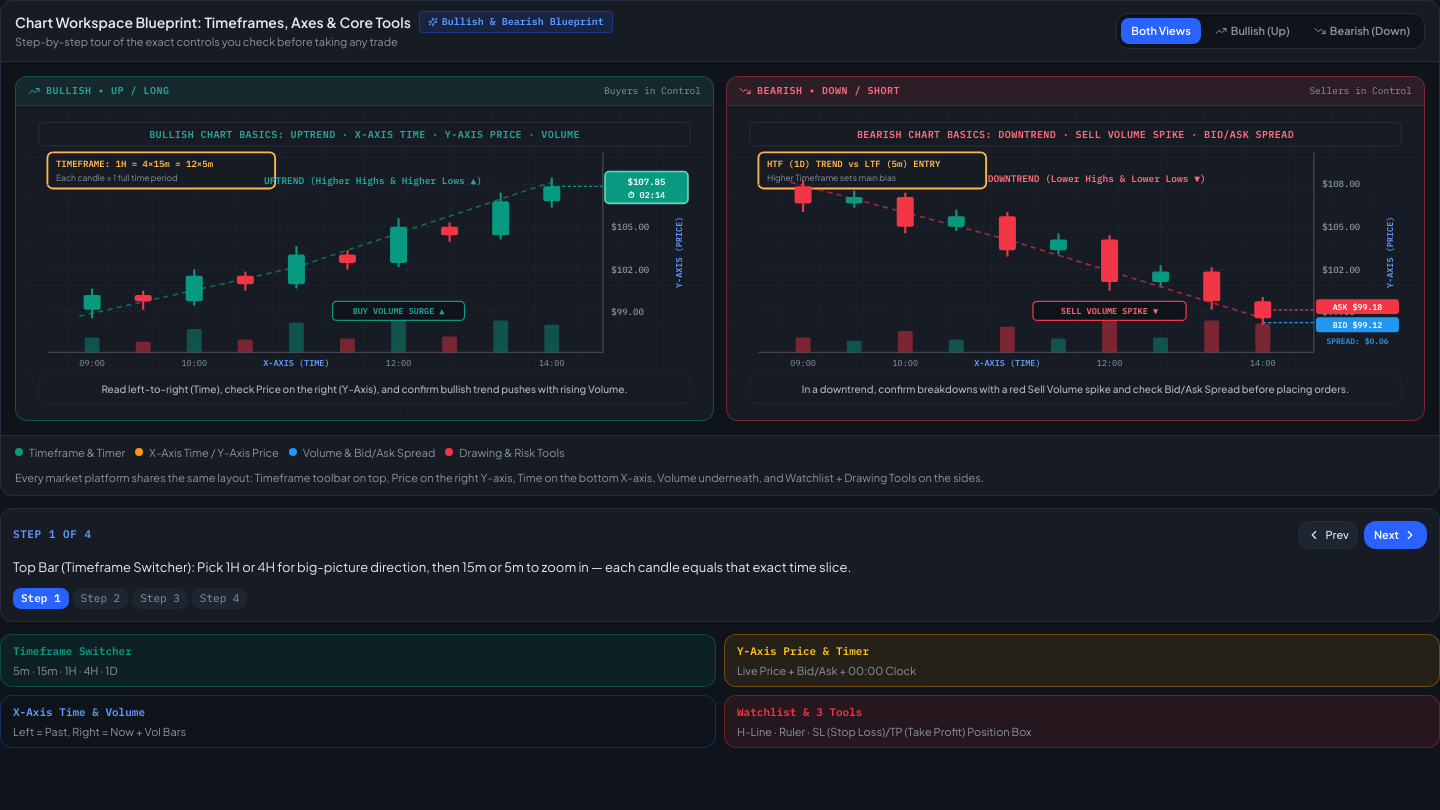
Test case: ConceptDiagramSvg — dual Bullish/Bearish toggle & chart_fundamentals blueprint › renders BOTH Bullish and Bearish SVGs by default, switches to Bullish-only or Bearish-only, and renders chart_fundamentals cleanly
This screenshot has width=1440, height=810.
Expected: the number of pictures named "diagram:" is 2, [24,114,705,412]; [735,114,1416,412]
Expected: the text "BULLISH • UP / LONG" is shown, [28,83,170,99]
Switch to Bullish only
Click the button "Bullish (Up)". click: click(1252, 31)
box: [1205,18,1300,44]
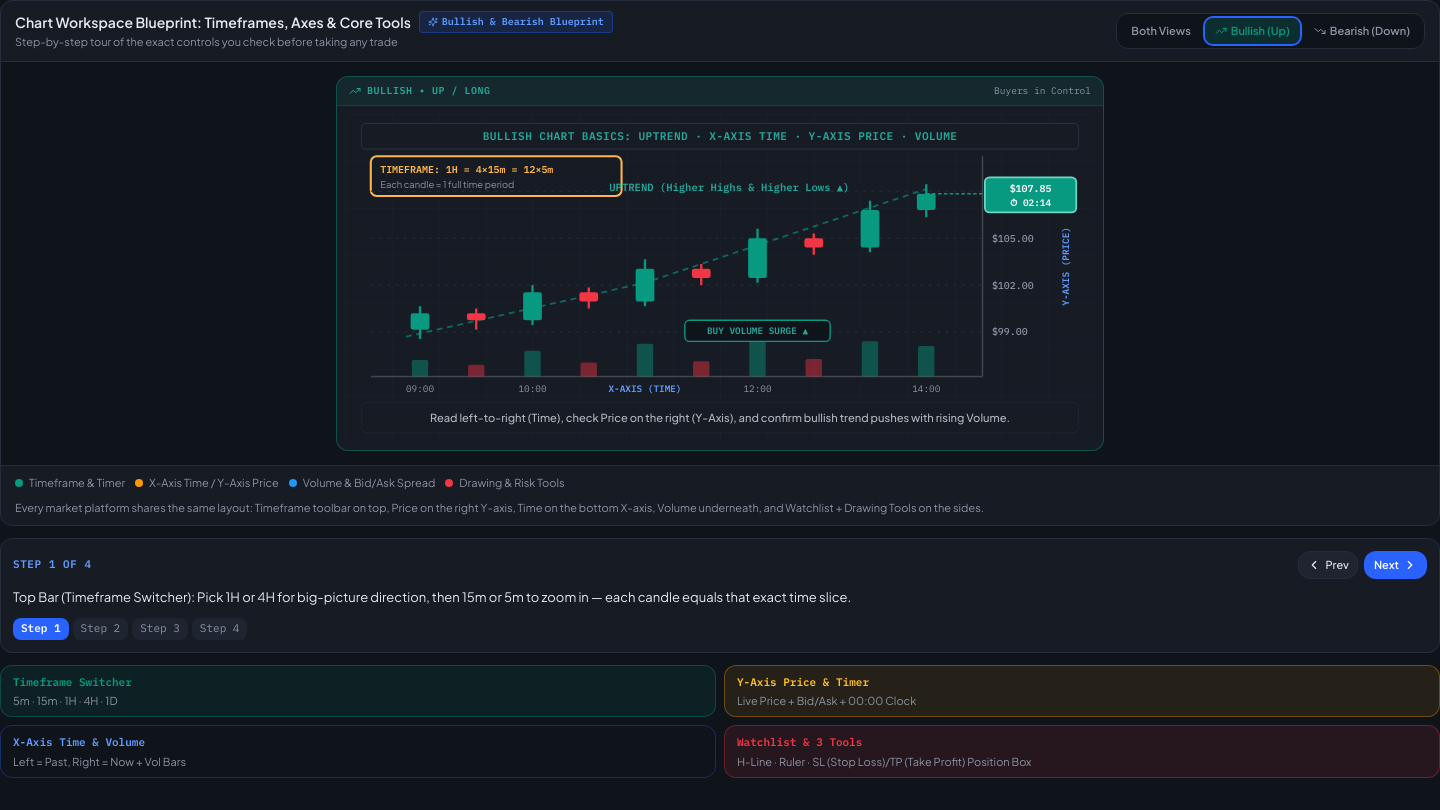
Expected: the text "BULLISH • UP / LONG" is shown, [349,83,490,99]
Expected: the number of pictures named "diagram:" is 1, [345,114,1095,442]
Expected: the text "BEARISH • DOWN / SHORT" is gone
Switch to Bearish only
Click the button "Bearish (Down)". click: click(1362, 31)
box: [1304,18,1420,44]
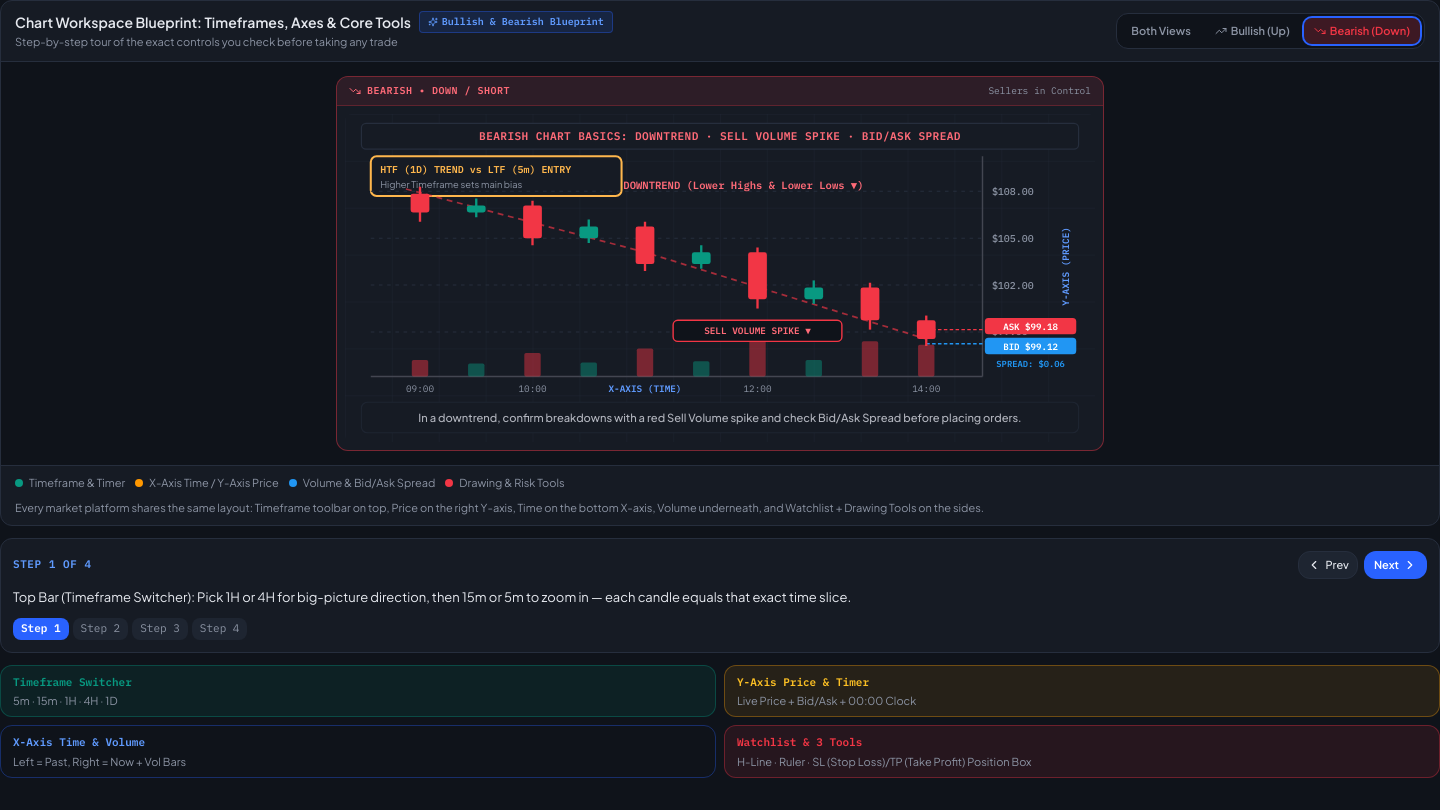
Expected: the number of pictures named "diagram:" is 1, [345,114,1095,442]
Expected: the text "BEARISH • DOWN / SHORT" is shown, [349,83,510,99]
Expected: the text "BULLISH • UP / LONG" is gone
Switch back to Both
Click the button "Both Views". click: click(1161, 31)
box: [1121,18,1201,44]
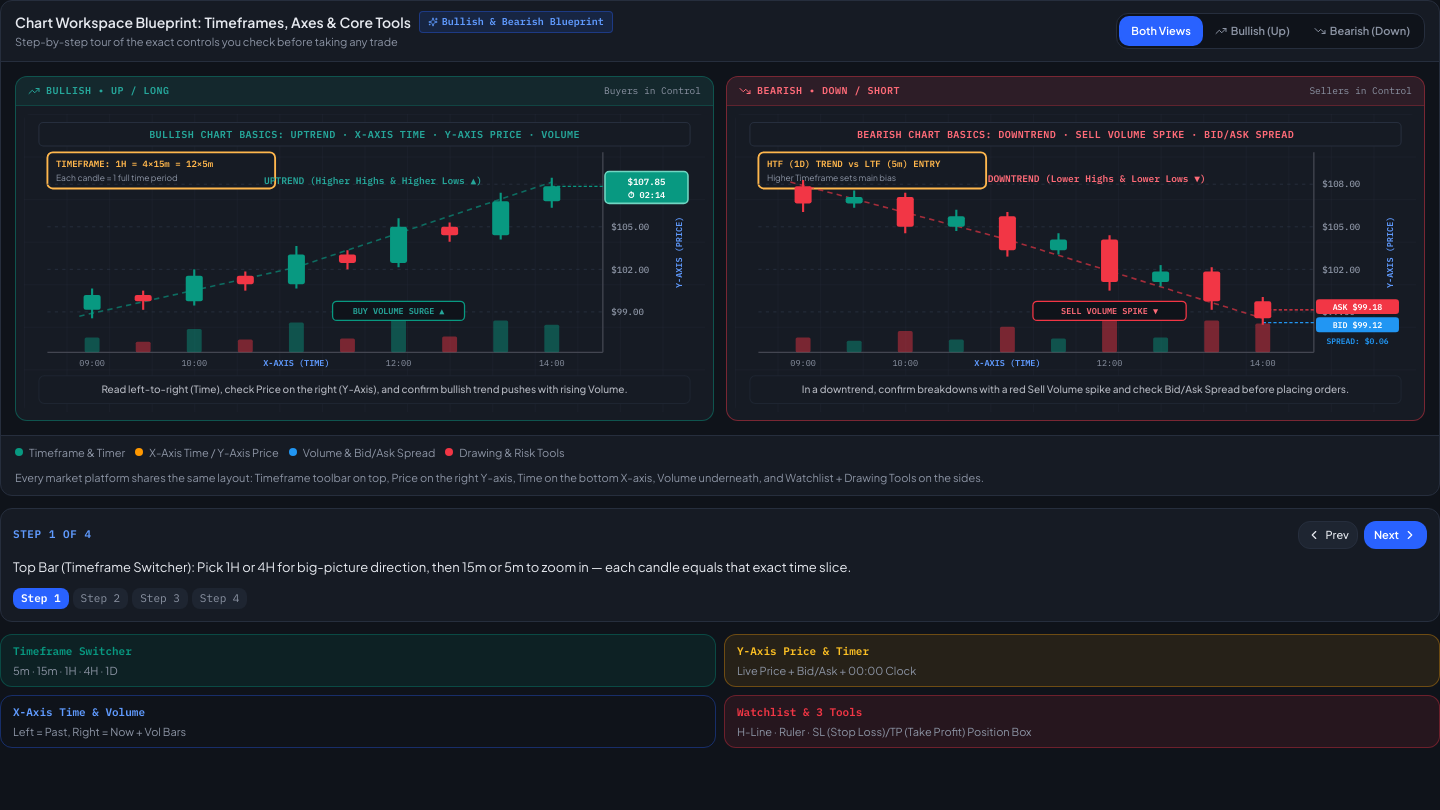
Expected: the number of pictures named "diagram:" is 2, [24,114,705,412]; [735,114,1416,412]
